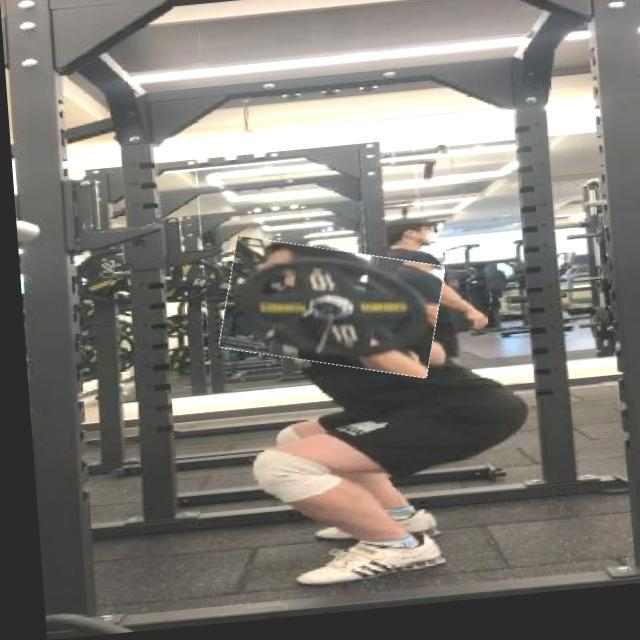barbell: (214, 239, 441, 391)
